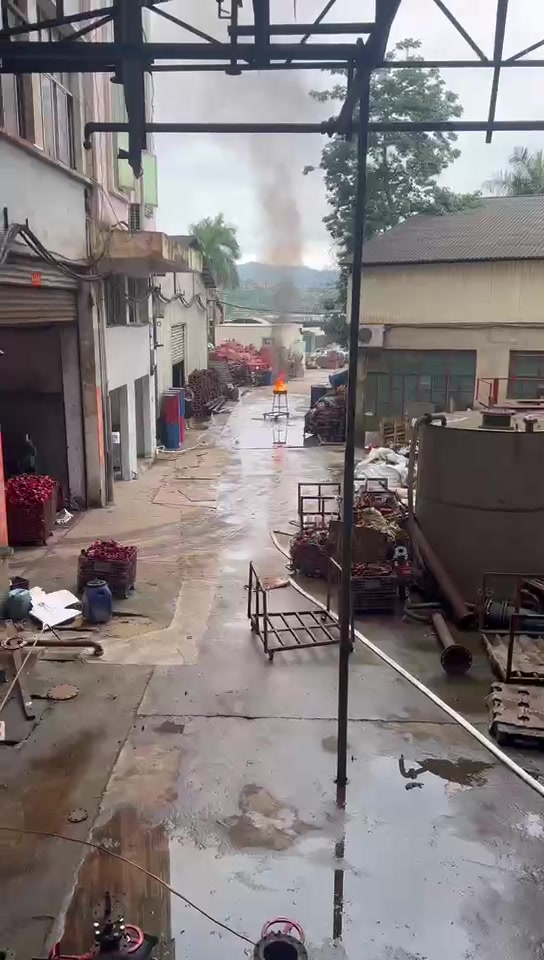fire: (273, 371, 286, 391)
